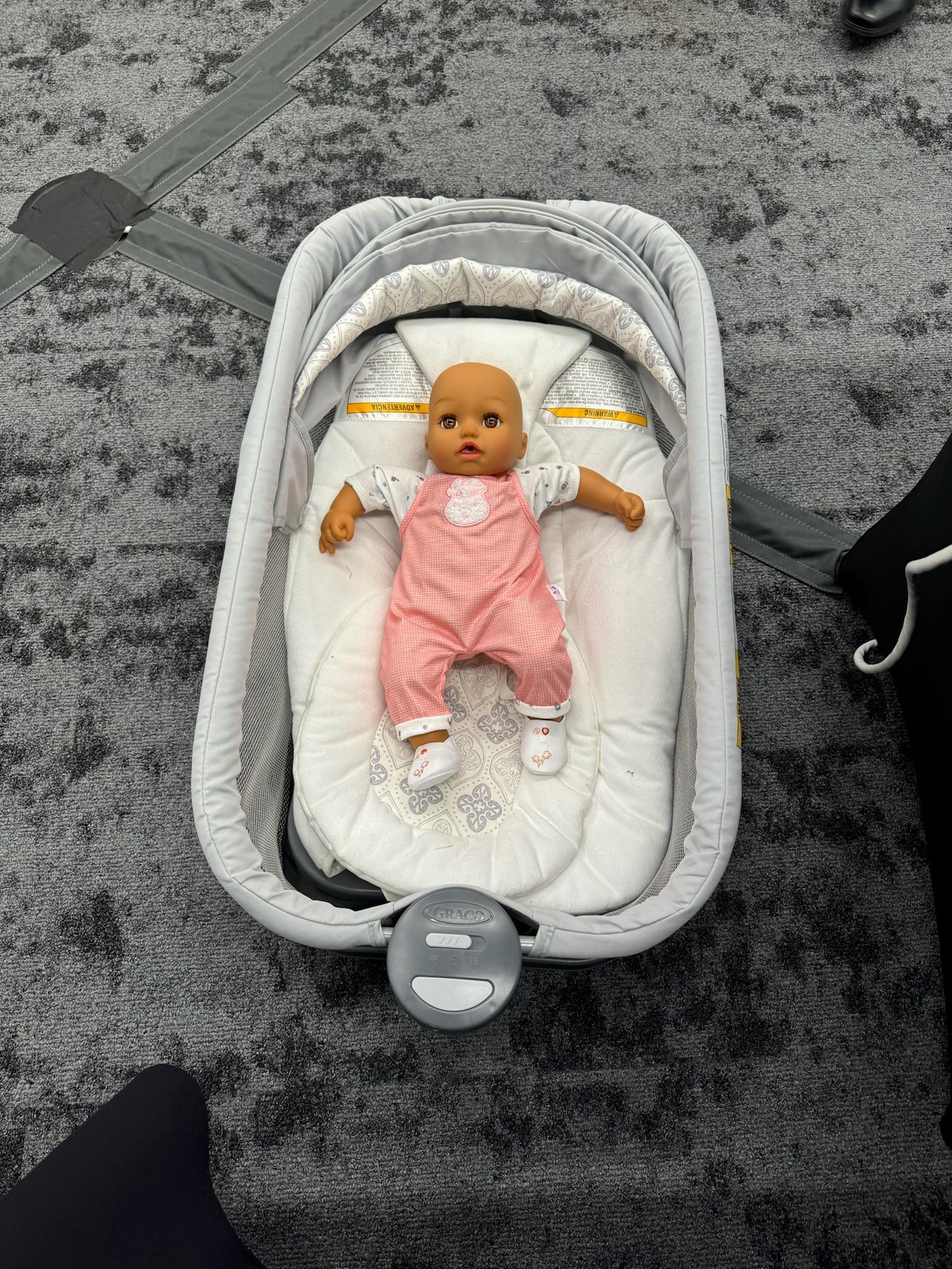baby: (313, 354, 639, 797)
